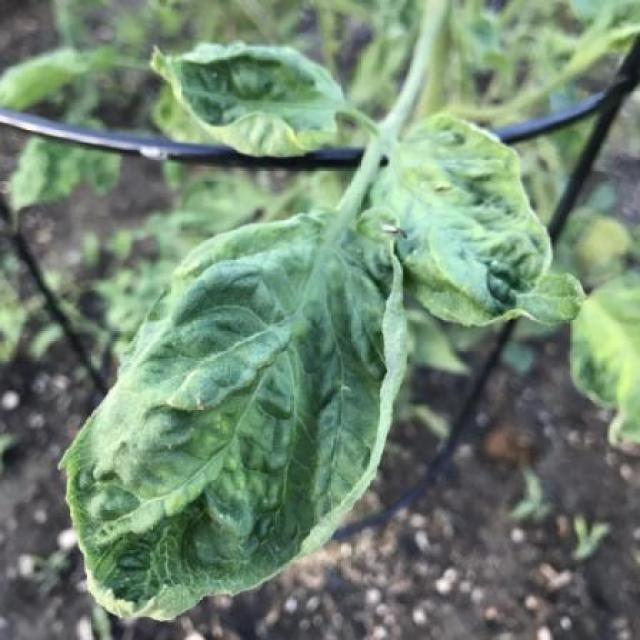Mosaic Virus: (53, 220, 410, 617), (376, 115, 587, 328), (148, 35, 348, 158)
